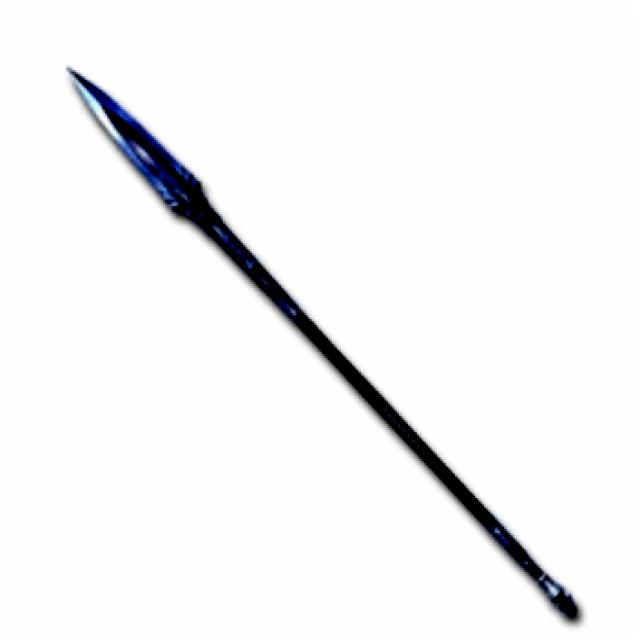spear: (53, 49, 590, 630)
